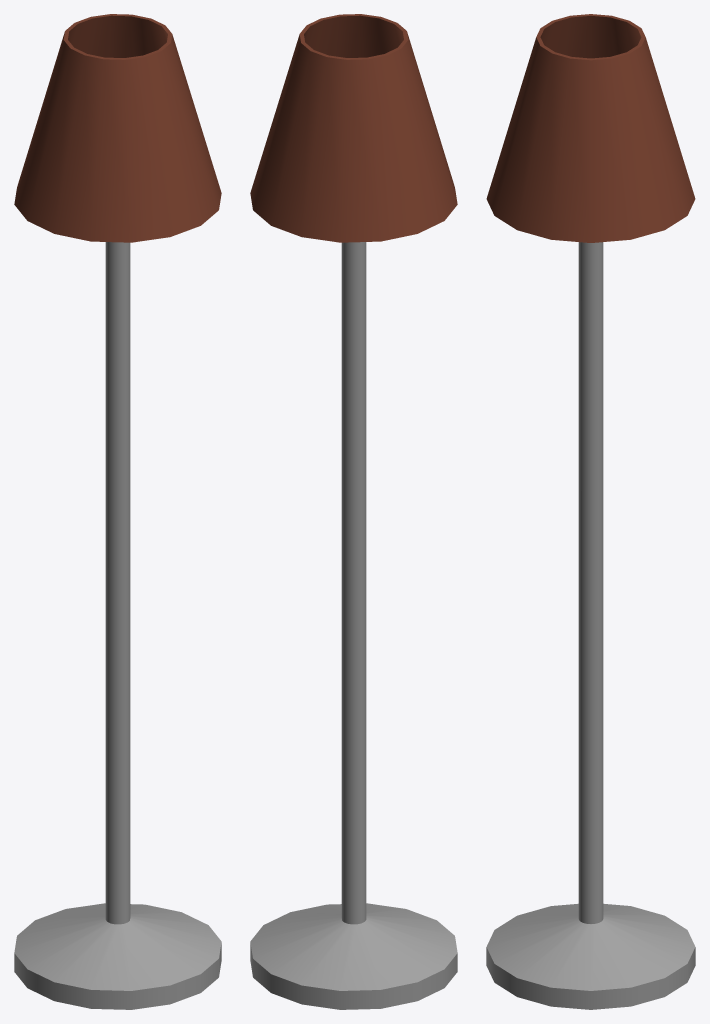
Rendered from Footlamp.fbx.
3 views of the same model, side by side, from view 1: azimuth 30°, elevation 25°; view 2: azimuth 150°, elevation 25°; view 3: azimuth 270°, elevation 25° (orthographic).
Parts seen in each view (by area): view 1: pCylinder3; view 2: pCylinder3; view 3: pCylinder3.
Boxes of the visible parts, x1=… form: pCylinder3: x1=14, y1=14, x2=221, y2=1009; pCylinder3: x1=250, y1=14, x2=457, y2=1009; pCylinder3: x1=486, y1=14, x2=695, y2=1009.
Bounding box in the file's own units: 1 × 1 × 4.9.
